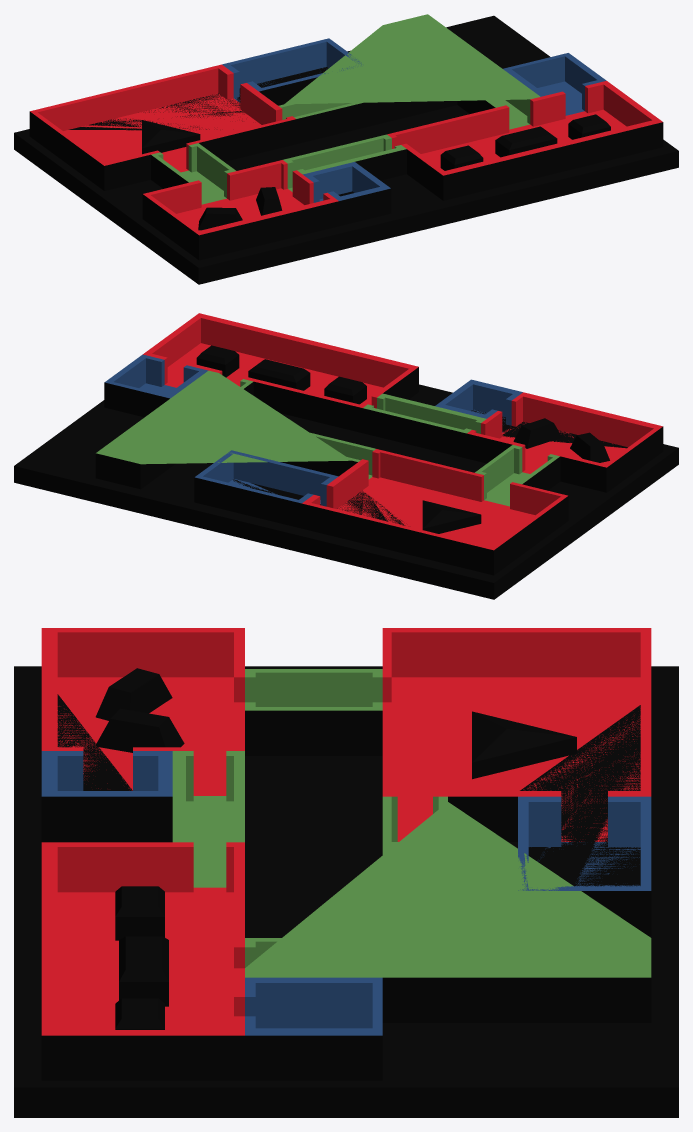
File: Room2.fbx
The picture shows the model from 3 angles, top to bottom: view 1: azimuth 30°, elevation 25°; view 2: azimuth 150°, elevation 25°; view 3: azimuth 270°, elevation 25°; orthographic projection. The views are drawn at different scales.
Visible parts, largest first — view 1: Cube; view 2: Cube; view 3: Cube.
Part boxes in pixels (box(x1,y1,x2,y2)): Cube: box(14, 14, 678, 284); Cube: box(14, 313, 678, 599); Cube: box(14, 628, 678, 1117).
Bounding box in the file's own units: 600 × 50 × 400.
